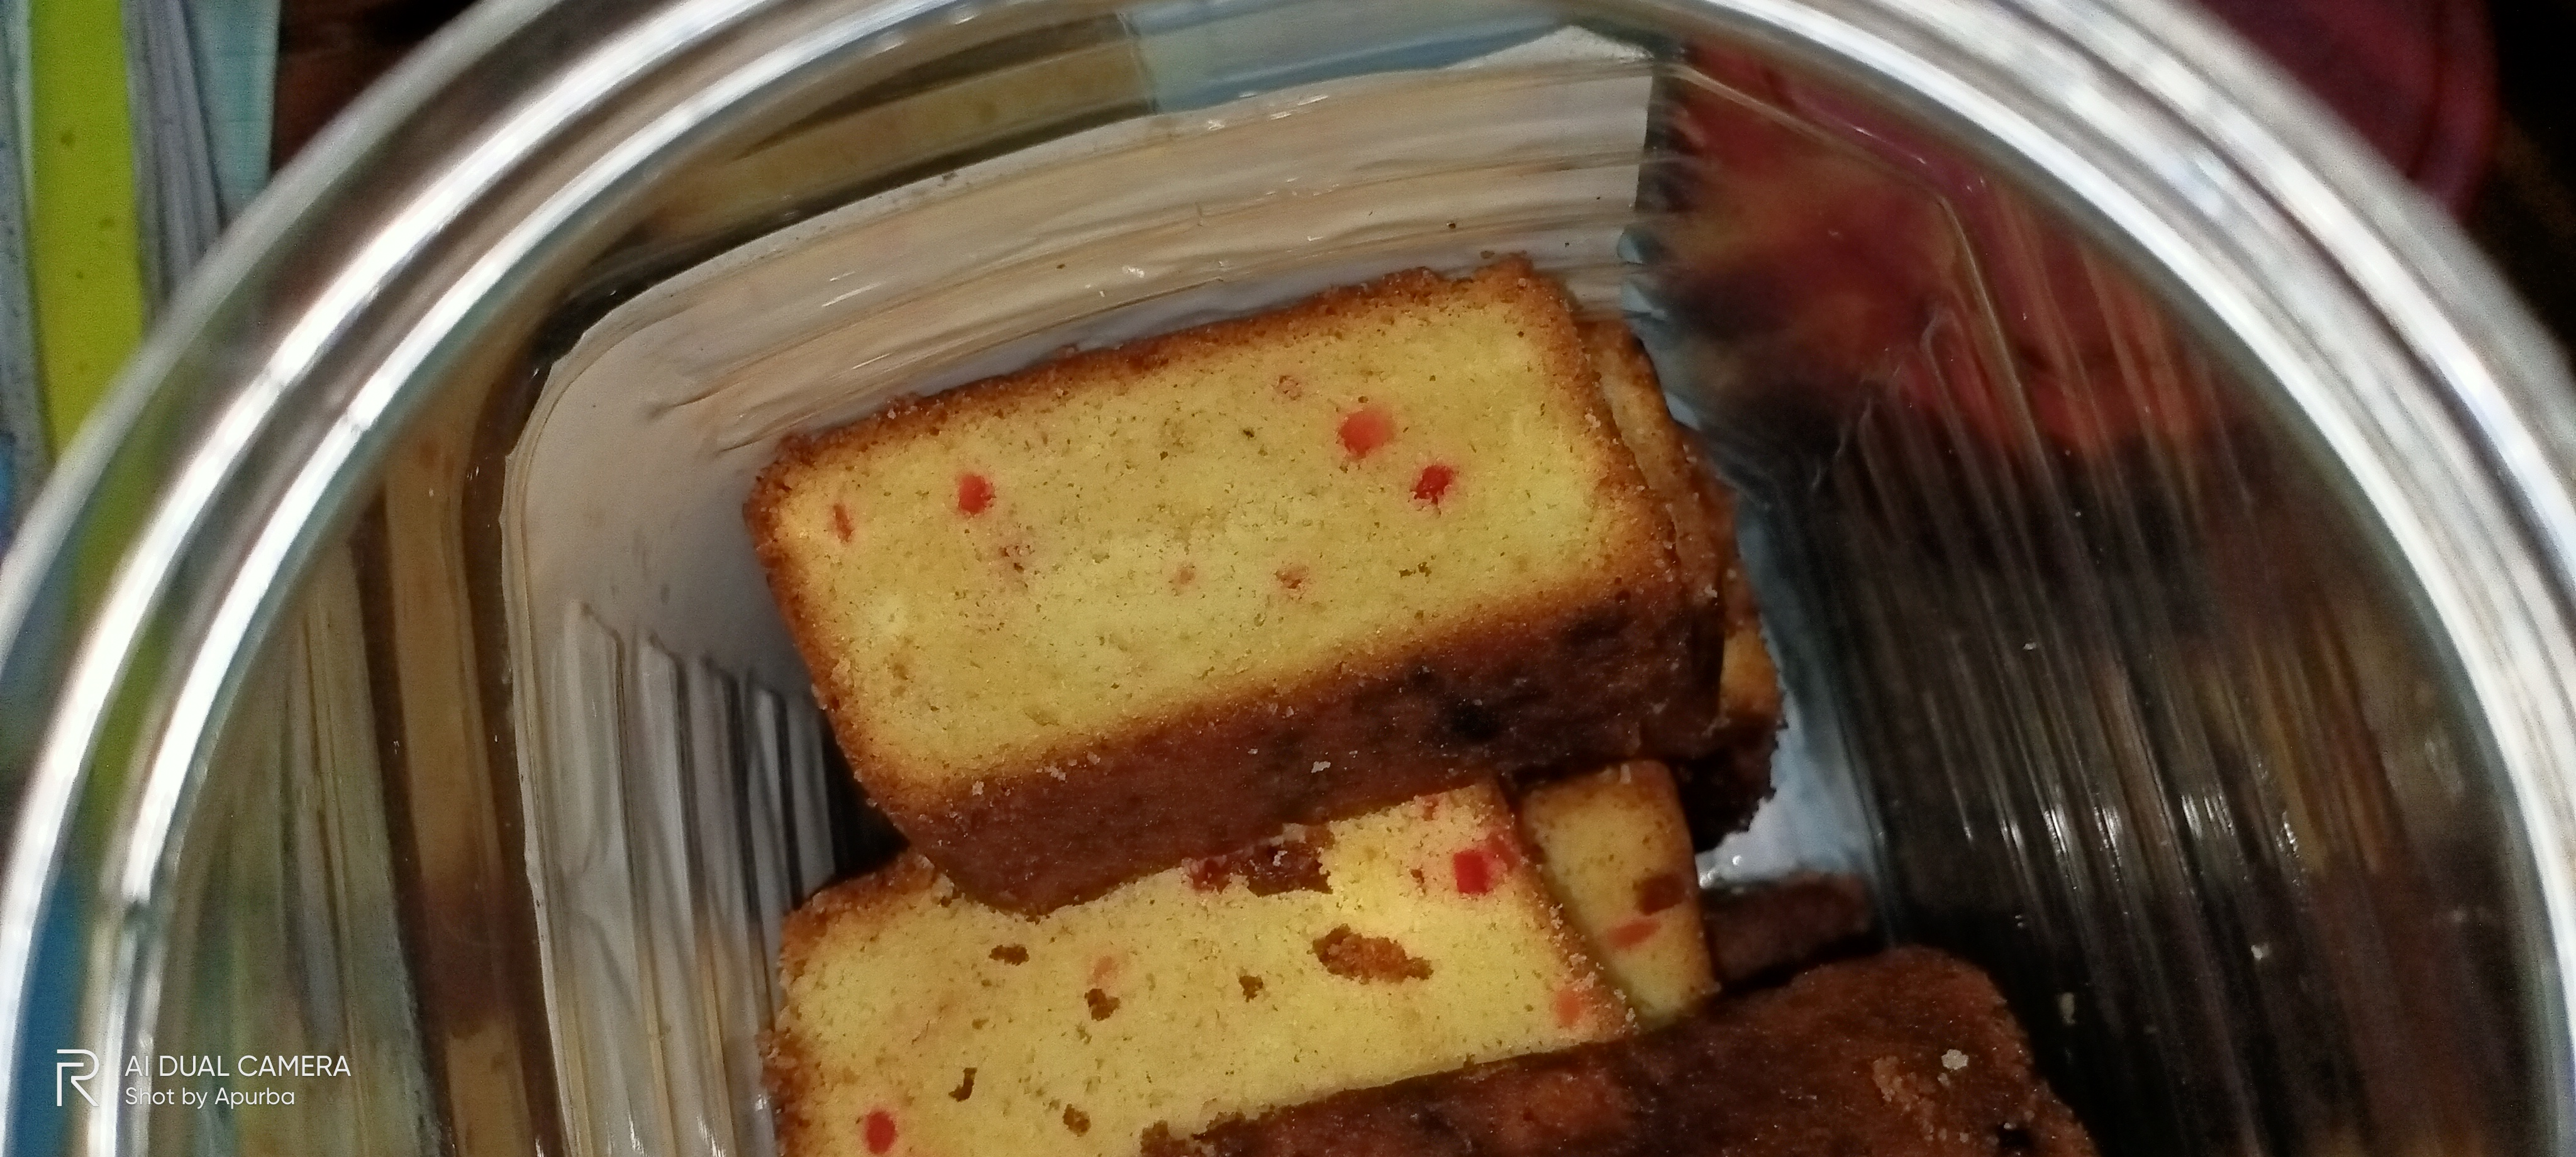food: (723, 237, 2104, 1157)
